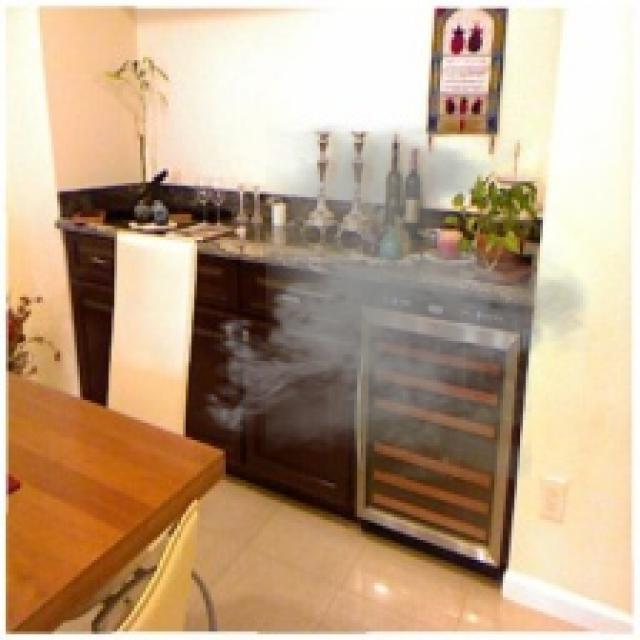smoke: (191, 123, 606, 480)
